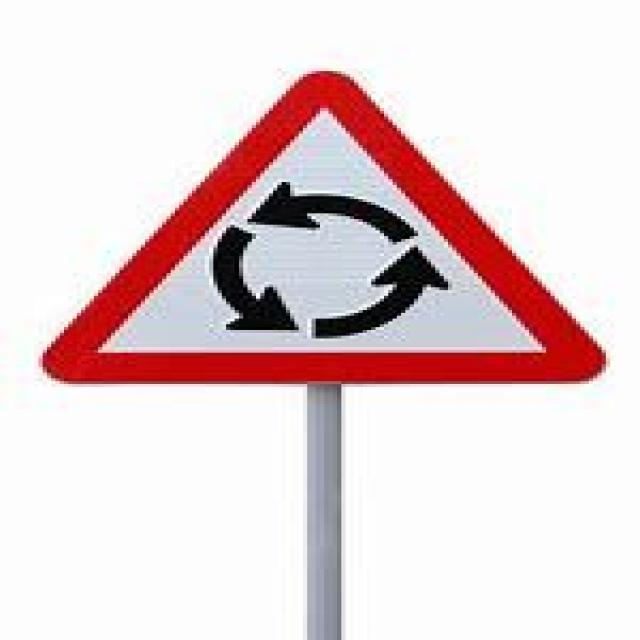ROUNDABOUT: (34, 68, 606, 381)
